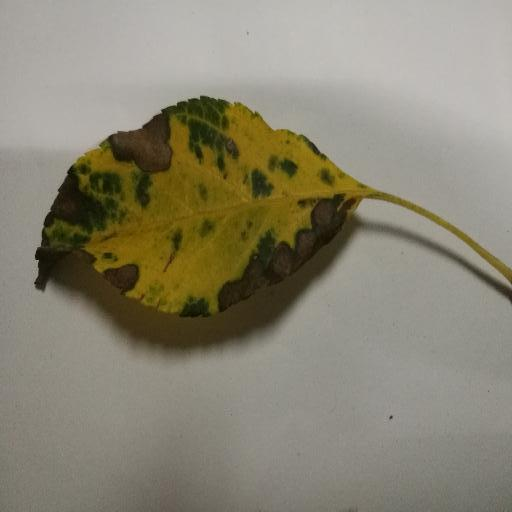Brown_Spot: (204, 199, 351, 313), (108, 124, 183, 177), (105, 259, 159, 290)
